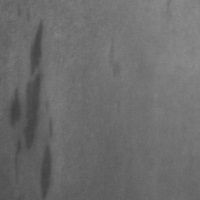inclusion: (5, 15, 52, 197), (38, 115, 59, 199), (103, 38, 126, 85)
